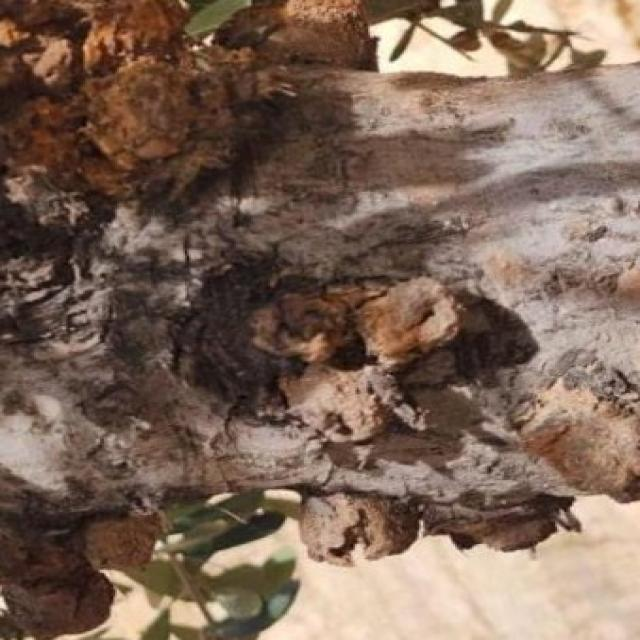Tuberculosis: (251, 277, 485, 468), (2, 507, 162, 638), (217, 0, 376, 70), (298, 494, 419, 565)
